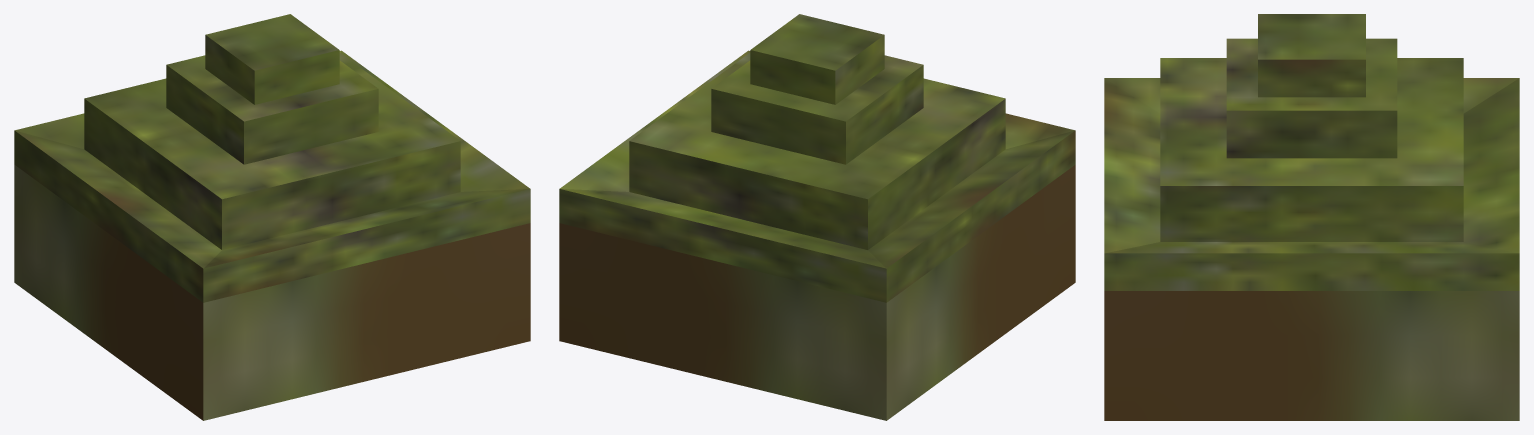
Rendered from jun_tile_boundary_pyramid.obj.
3 views of the same model, side by side, from view 1: azimuth 30°, elevation 25°; view 2: azimuth 150°, elevation 25°; view 3: azimuth 270°, elevation 25° (orthographic). The views are drawn at different scales.
Parts seen in each view (by area): view 1: tile_boundary_pyr; view 2: tile_boundary_pyr; view 3: tile_boundary_pyr.
Part boxes in pixels (bbox=[...]): tile_boundary_pyr: bbox=[14, 14, 530, 420]; tile_boundary_pyr: bbox=[559, 14, 1075, 420]; tile_boundary_pyr: bbox=[1104, 14, 1519, 420].
Size of the model in its own units: 1 by 0.7875 by 1.
Materials: 1 (1 with a texture image).
